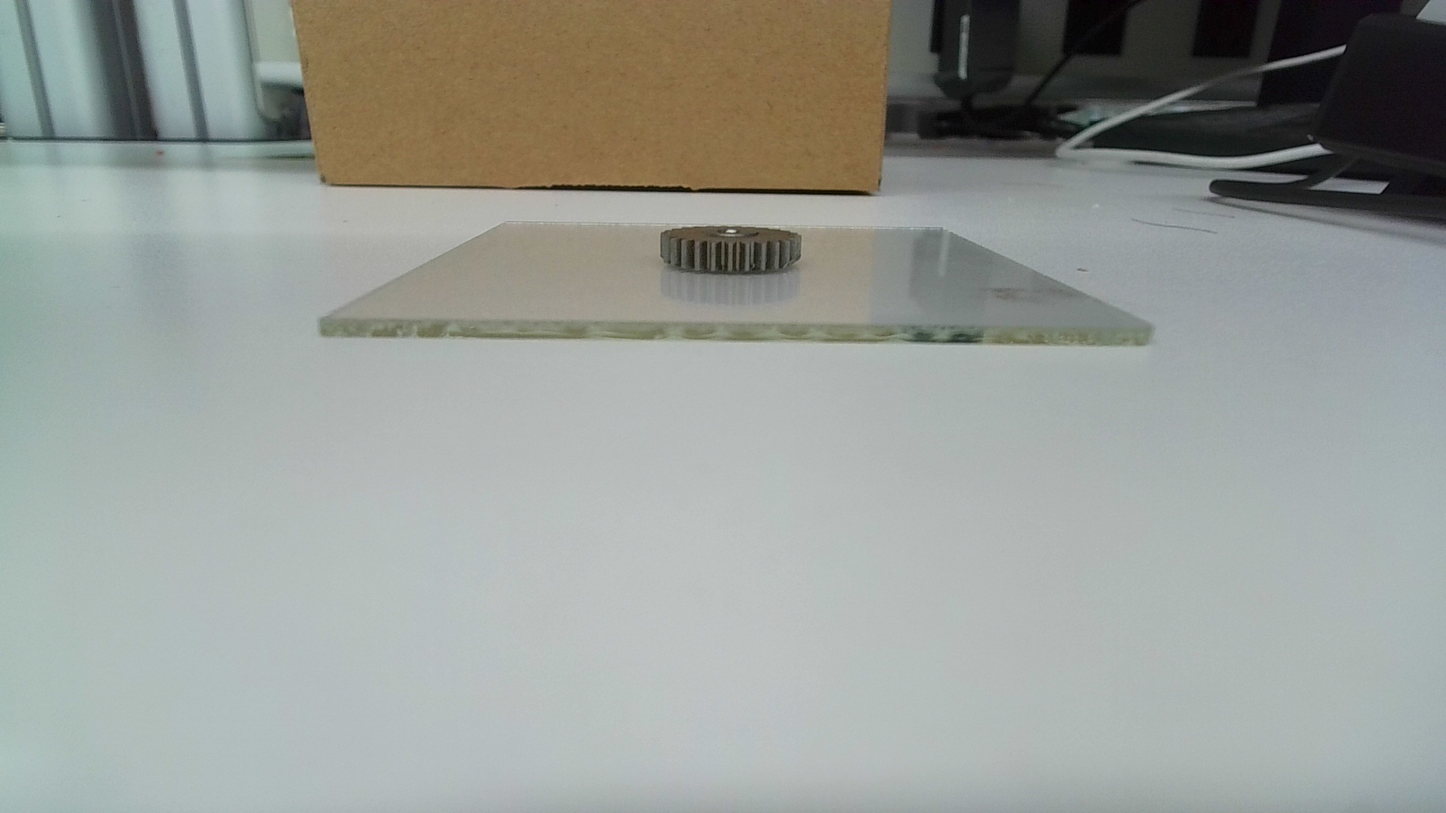gear: (657, 224, 807, 277)
